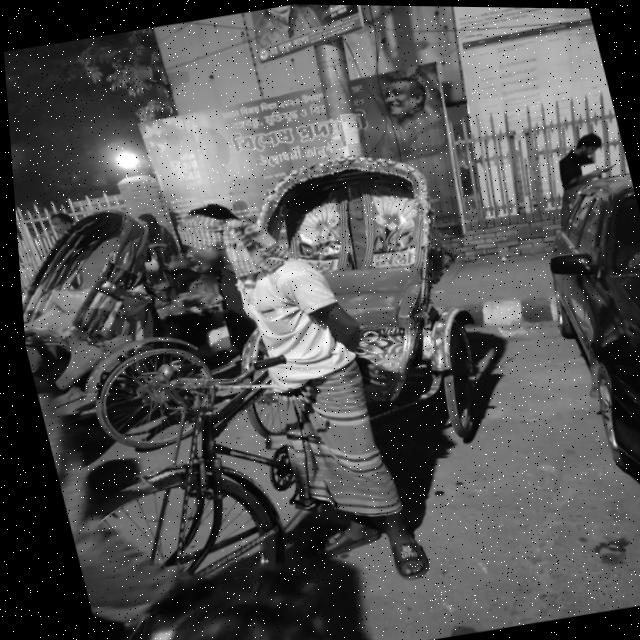rikshaw: (97, 141, 514, 586), (11, 186, 249, 490)
